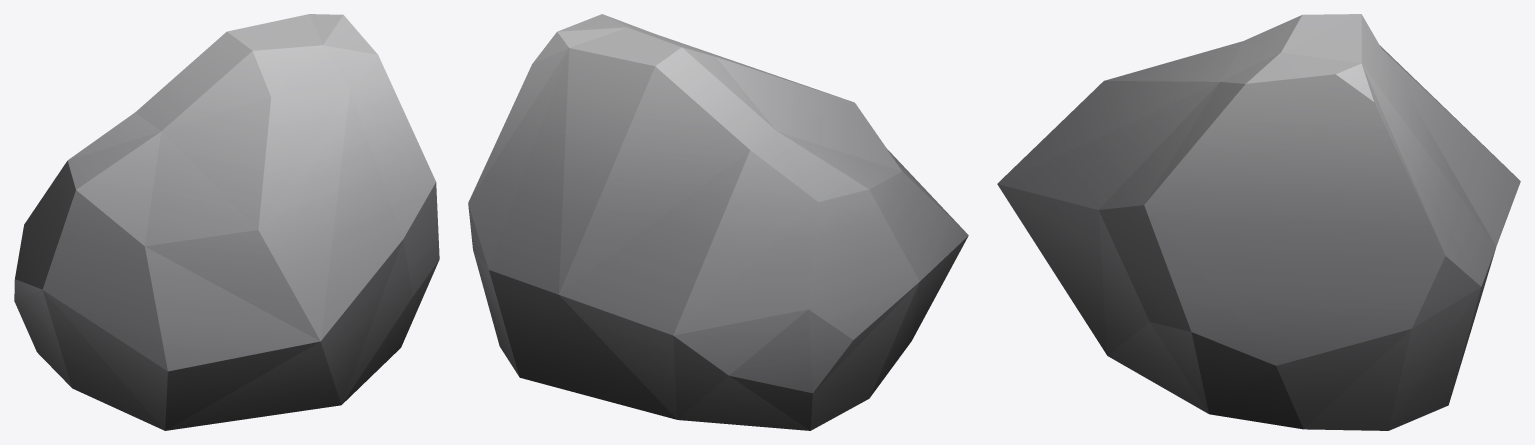
File: RockMed-02.FBX
3 views of the same model, side by side, from view 1: azimuth 30°, elevation 25°; view 2: azimuth 150°, elevation 25°; view 3: azimuth 270°, elevation 25° (orthographic). The views are drawn at different scales.
Parts seen in each view (by area): view 1: RockMed-02; view 2: RockMed-02; view 3: RockMed-02.
Boxes of the visible parts, x1,y1,x2,y2 form: RockMed-02: (14, 14, 439, 430); RockMed-02: (468, 14, 968, 430); RockMed-02: (997, 14, 1520, 430).
Bounding box in the file's own units: 122 × 91.86 × 128.
1 material, 1 textured.
